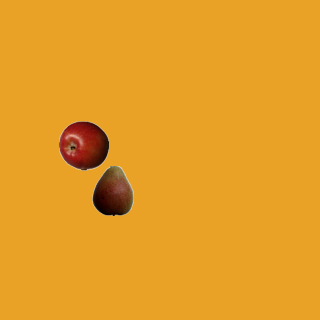Apple Braeburn: (58, 120, 108, 170)
Pear Forelle: (87, 165, 137, 215)
